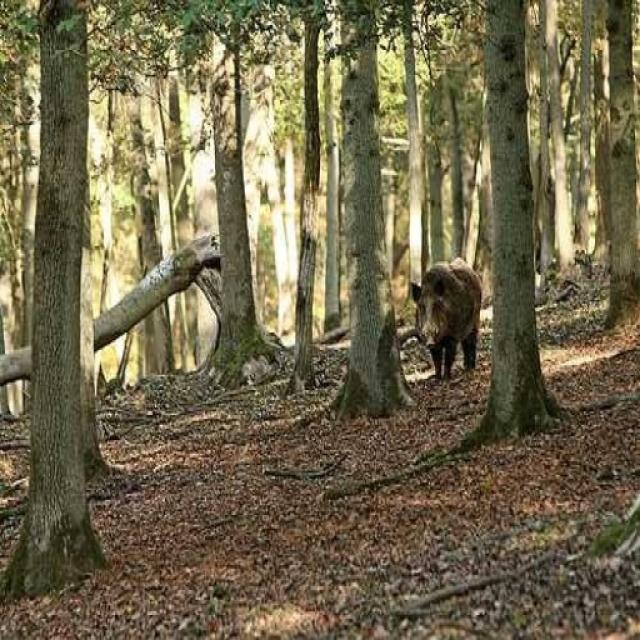pig: (401, 240, 490, 374)
